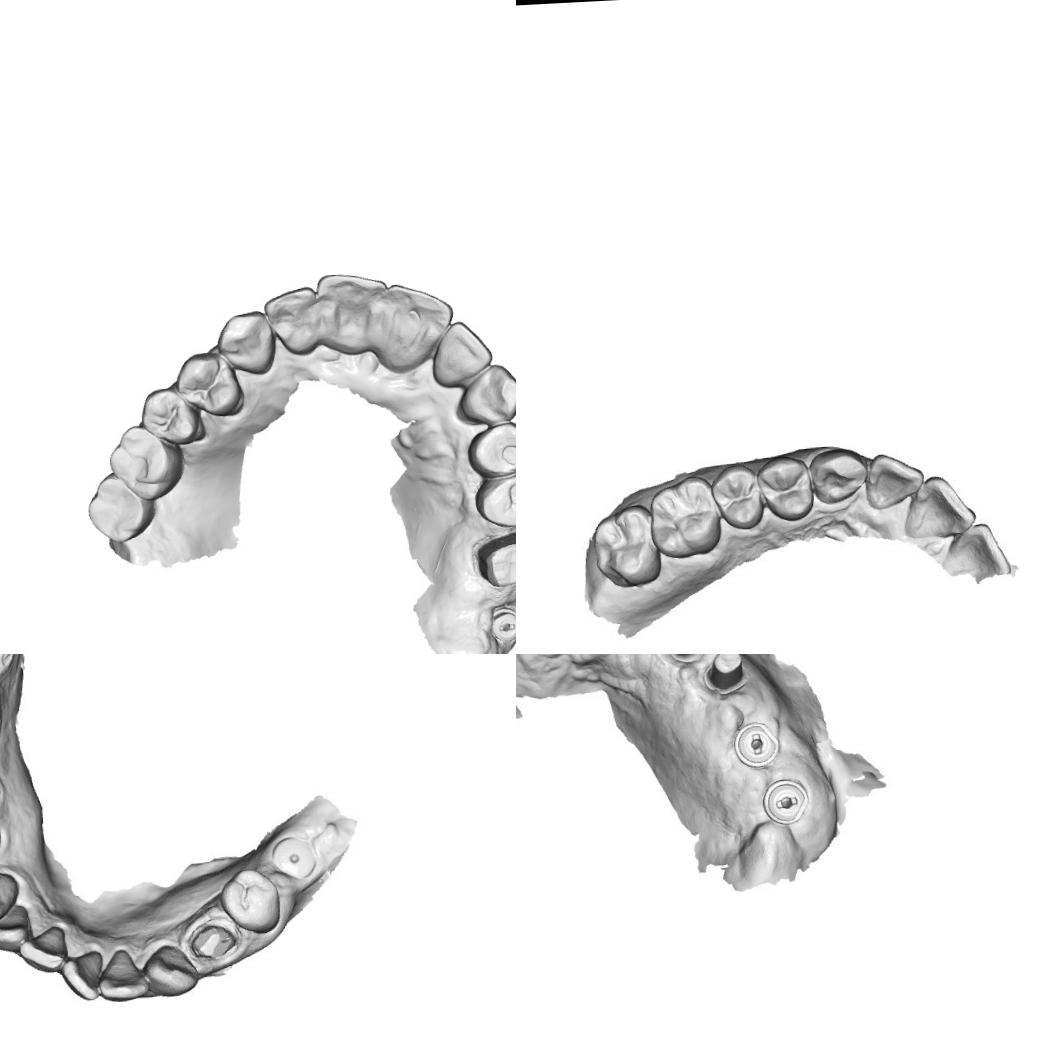abutment: (700, 654, 758, 701), (657, 654, 718, 671)
canine: (213, 308, 278, 377), (456, 362, 516, 427), (807, 444, 869, 504), (146, 938, 202, 995), (0, 866, 18, 919)
crown: (184, 914, 243, 970), (472, 528, 516, 590)
implant: (271, 831, 325, 890)
implant_minus: (726, 712, 784, 778), (758, 770, 813, 834), (488, 608, 516, 647)
incisor: (370, 278, 456, 376), (312, 268, 392, 355), (898, 472, 977, 542), (426, 317, 496, 388), (261, 285, 322, 358), (940, 520, 1010, 580), (863, 448, 928, 510), (97, 948, 153, 1003), (21, 926, 70, 980), (62, 948, 108, 1002), (0, 901, 33, 957)
molar: (105, 420, 187, 502), (644, 472, 722, 558), (588, 503, 663, 592), (82, 470, 158, 546), (224, 867, 280, 930)
premolar: (173, 349, 244, 418), (756, 452, 818, 524), (137, 385, 202, 448), (709, 466, 766, 531), (466, 420, 516, 478), (472, 470, 516, 529)
